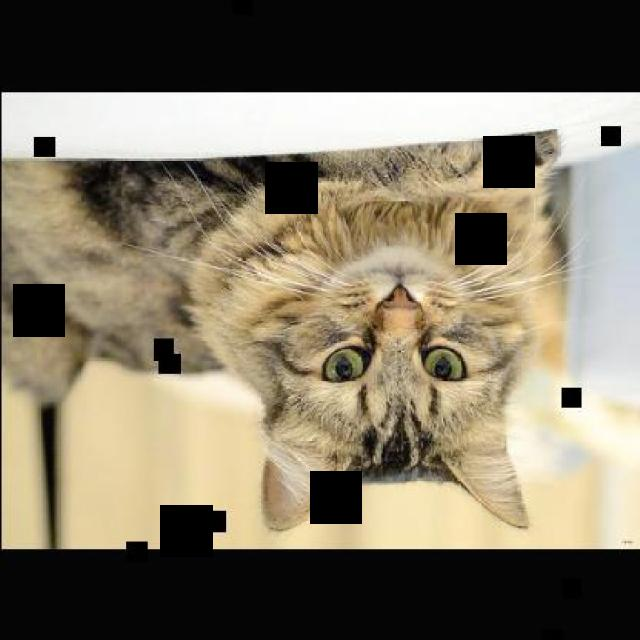unauthorized: (0, 130, 588, 532)
